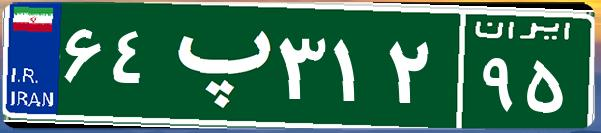1: (330, 28, 385, 110)
2: (385, 28, 445, 110)
3: (273, 28, 330, 110)
4: (110, 28, 158, 105)
5: (525, 38, 570, 115)
6: (57, 26, 110, 107)
9: (475, 38, 525, 113)
پ: (158, 15, 273, 115)
